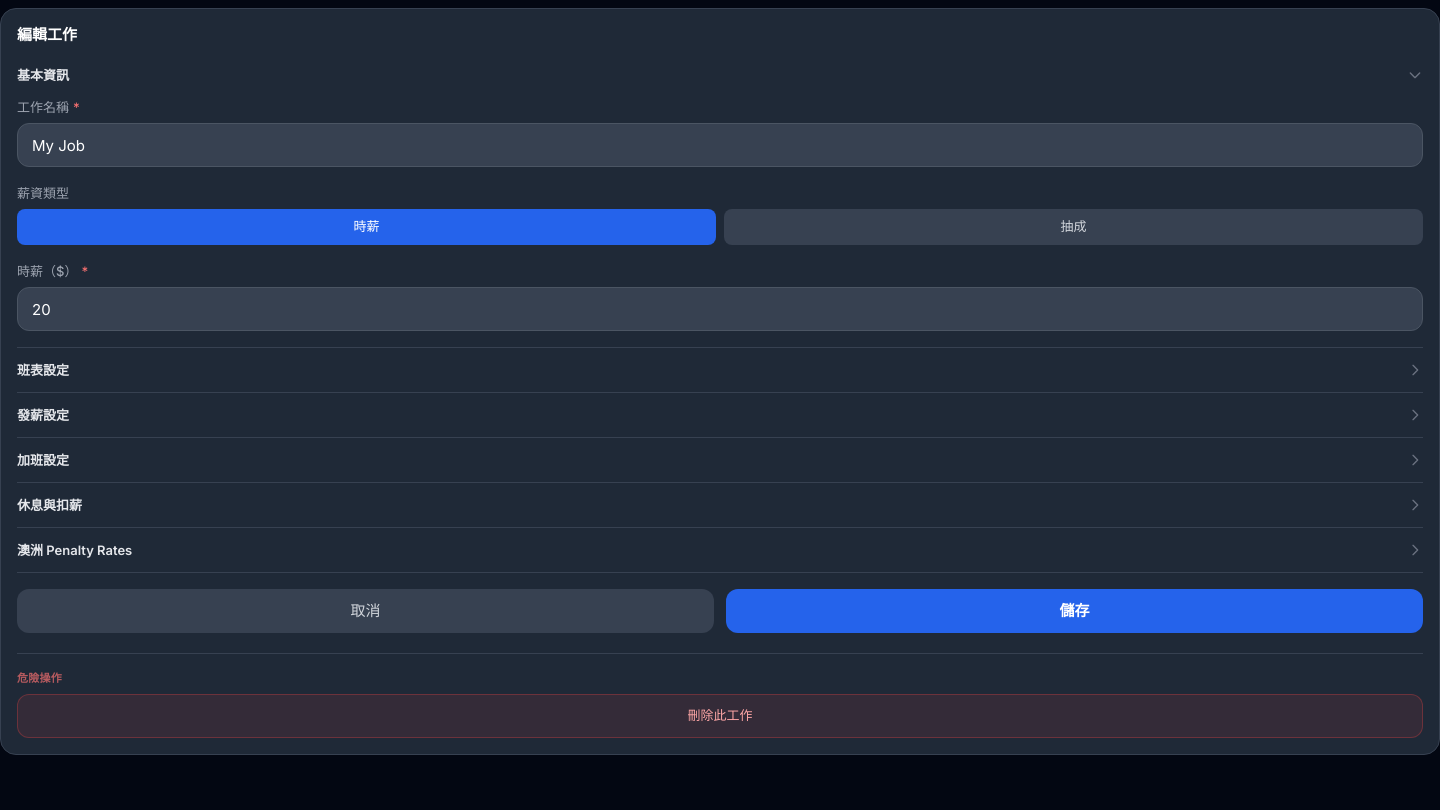
Test: EditJobForm › 改時薪且該工作已有紀錄時，跳出套用範圍面板
Replace the text in the number field showing "20" with "25" at (720, 309), box 17,287 -> 1423,331
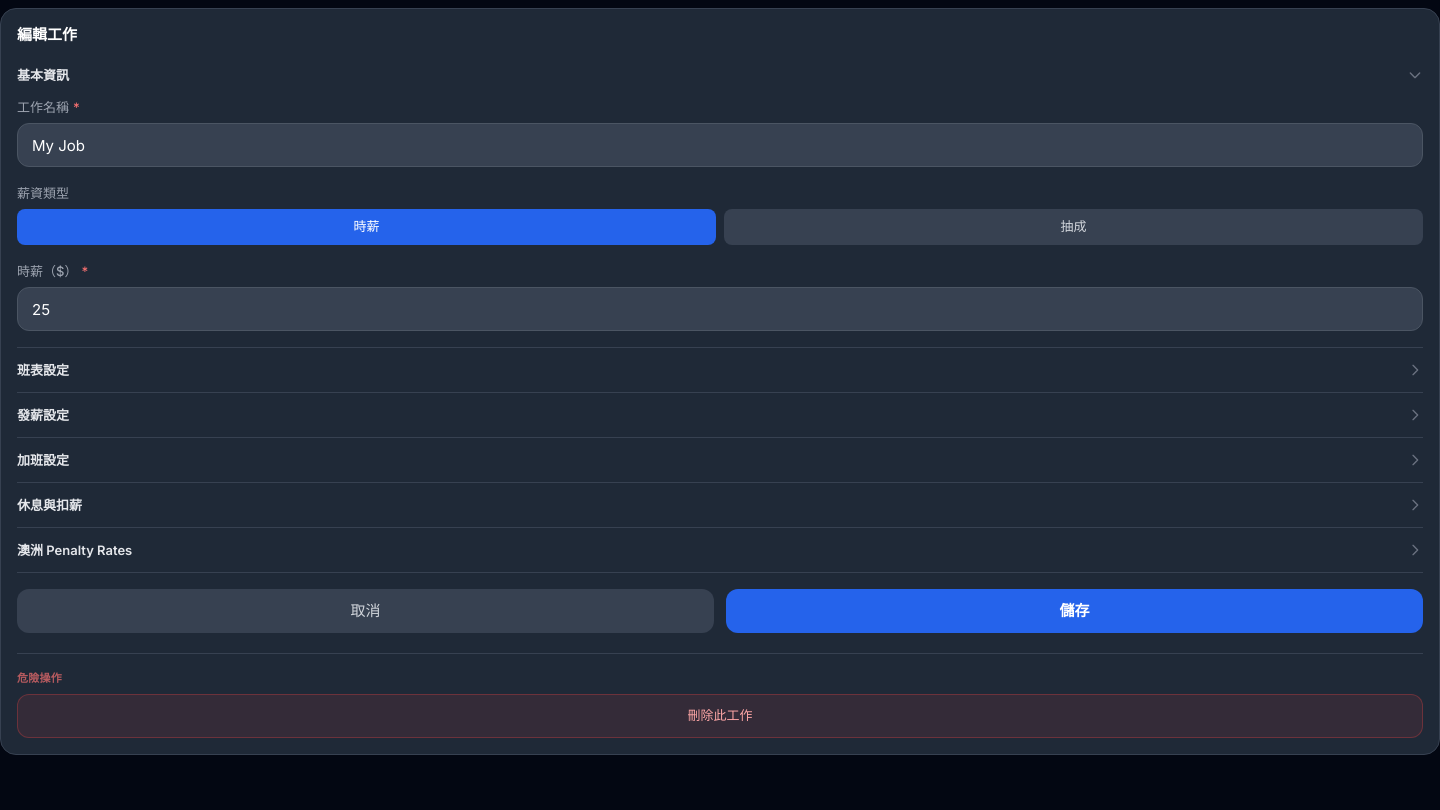
Click the button "儲存" at (1074, 611), box 726,589 -> 1423,633
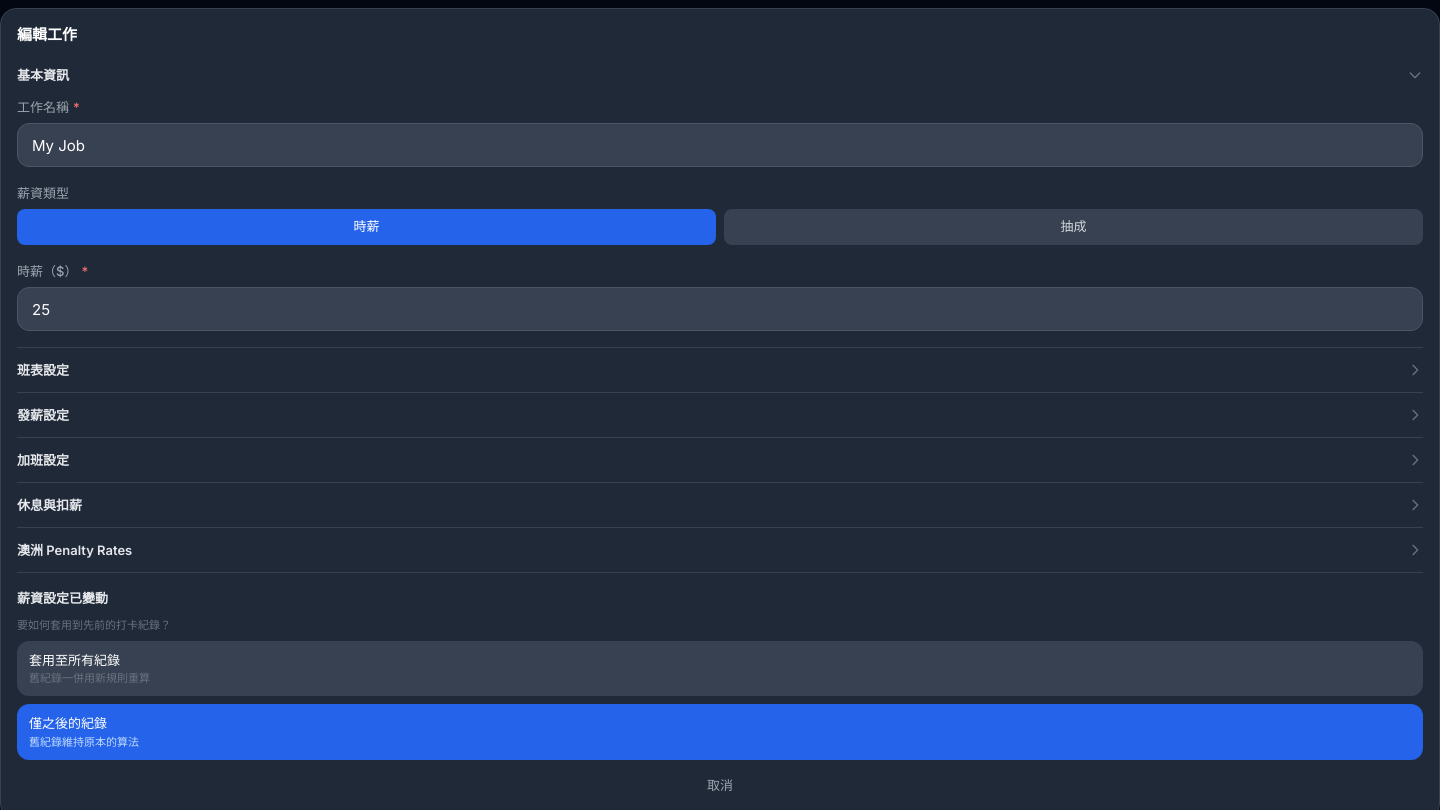
Check: the text "薪資設定已變動" is shown, box 17,590 -> 108,606
